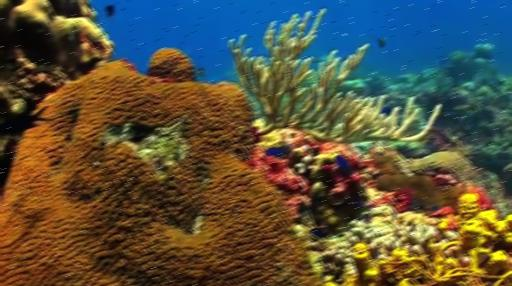Fish: (0, 107, 49, 133), (335, 155, 351, 175), (265, 145, 290, 157), (309, 227, 327, 237), (381, 106, 393, 116), (106, 6, 114, 17), (376, 37, 384, 47), (196, 67, 203, 77)
